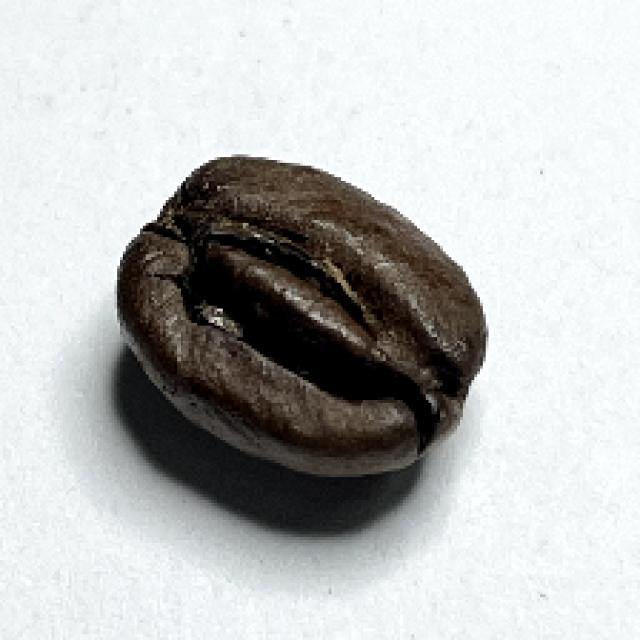bean: (110, 153, 487, 479)
